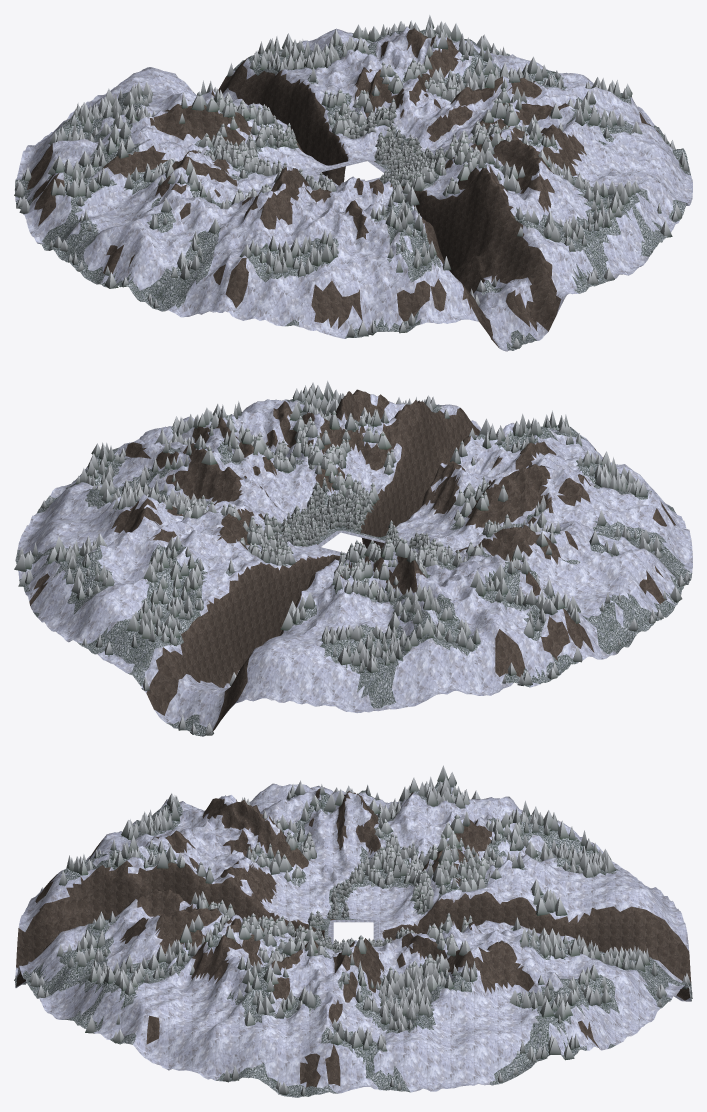
The model's file is backdrop_near_rect_briarE_winter.glb.
3 renders of one model, top to bottom at view 1: azimuth 30°, elevation 25°; view 2: azimuth 150°, elevation 25°; view 3: azimuth 270°, elevation 25°, orthographic.
Parts seen in each view (by area): view 1: near_land_S, near_land_W, near_land_E, near_land_N, trees_land_S_0, trees_land_W_0, trees_land_E_0, trees_land_N_0; view 2: near_land_N, near_land_W, near_land_E, near_land_S, trees_land_N_0, trees_land_E_0, trees_land_W_0, trees_land_S_0; view 3: near_land_E, near_land_S, near_land_N, near_land_W, trees_land_E_0, trees_land_N_0, trees_land_W_0, trees_land_S_0.
Part boxes in pixels (left/top/right/bottom): near_land_S: left=265, top=127, right=680, bottom=351; near_land_W: left=15, top=104, right=321, bottom=320; near_land_E: left=362, top=28, right=692, bottom=219; near_land_N: left=27, top=26, right=433, bottom=185; trees_land_S_0: left=273, top=129, right=678, bottom=348; trees_land_W_0: left=14, top=91, right=325, bottom=308; trees_land_E_0: left=374, top=21, right=688, bottom=218; trees_land_N_0: left=76, top=15, right=434, bottom=148; near_land_N: left=27, top=512, right=442, bottom=736; near_land_W: left=391, top=464, right=692, bottom=695; near_land_E: left=15, top=399, right=347, bottom=595; near_land_S: left=275, top=389, right=676, bottom=548; trees_land_N_0: left=55, top=503, right=422, bottom=735; trees_land_E_0: left=14, top=400, right=342, bottom=586; trees_land_W_0: left=384, top=475, right=690, bottom=685; trees_land_S_0: left=292, top=380, right=641, bottom=540; near_land_E: left=115, top=918, right=593, bottom=1097; near_land_S: left=15, top=820, right=330, bottom=1043; near_land_N: left=378, top=823, right=692, bottom=1050; near_land_W: left=140, top=781, right=592, bottom=923; trees_land_E_0: left=114, top=913, right=579, bottom=1095; trees_land_N_0: left=405, top=816, right=692, bottom=1006; trees_land_W_0: left=148, top=765, right=557, bottom=918; trees_land_S_0: left=14, top=811, right=324, bottom=1040.
Size of the model in its own units: 576 by 168 by 577.
Materials: 4 (3 with a texture image).
